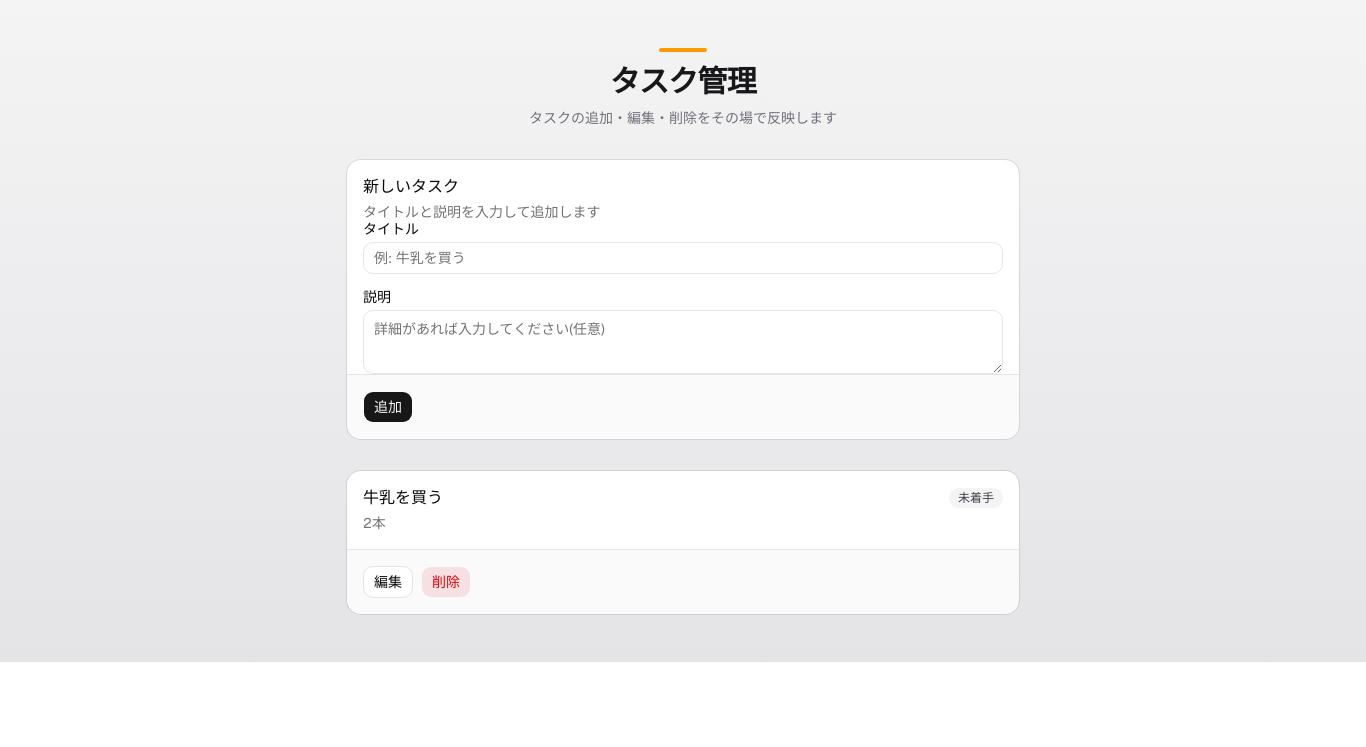
Test case: TaskBoard タスクの編集 › 状態遷移(順方向): 編集クリックで既存値が入った編集フォームに変わる
The width and height of the screenshot is (1366, 747).
Expected: the text "牛乳を買う" is shown, [363, 487, 443, 508]
Step 1. Click the button "編集" → (388, 582), box [363, 566, 413, 598]
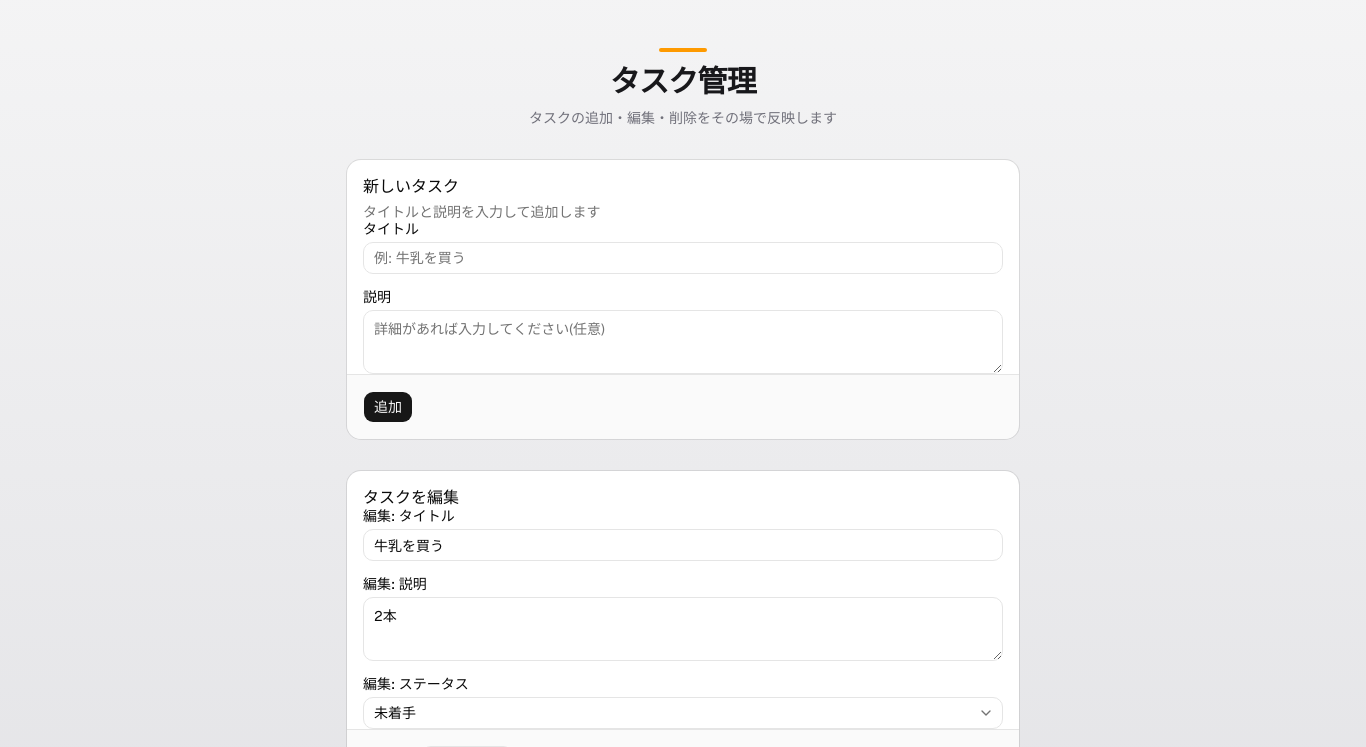
Expected: the field labelled "編集: タイトル" holds "牛乳を買う", [363, 529, 1003, 561]
Expected: the text box labelled "編集: 説明" holds "2本", [363, 597, 1003, 661]
